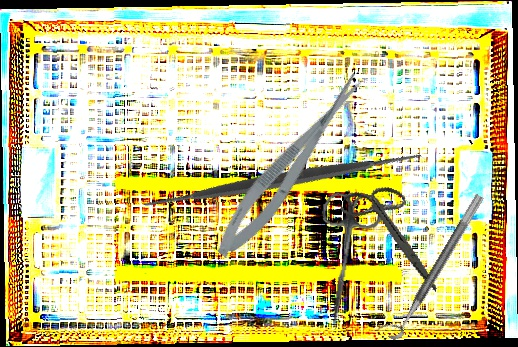Fixation Ring: (377, 186, 485, 343)
Iris Scissors: (324, 174, 464, 293), (305, 188, 386, 331)
Micro Scissor: (205, 67, 377, 266)
Spatula Surgical: (129, 27, 437, 334)
